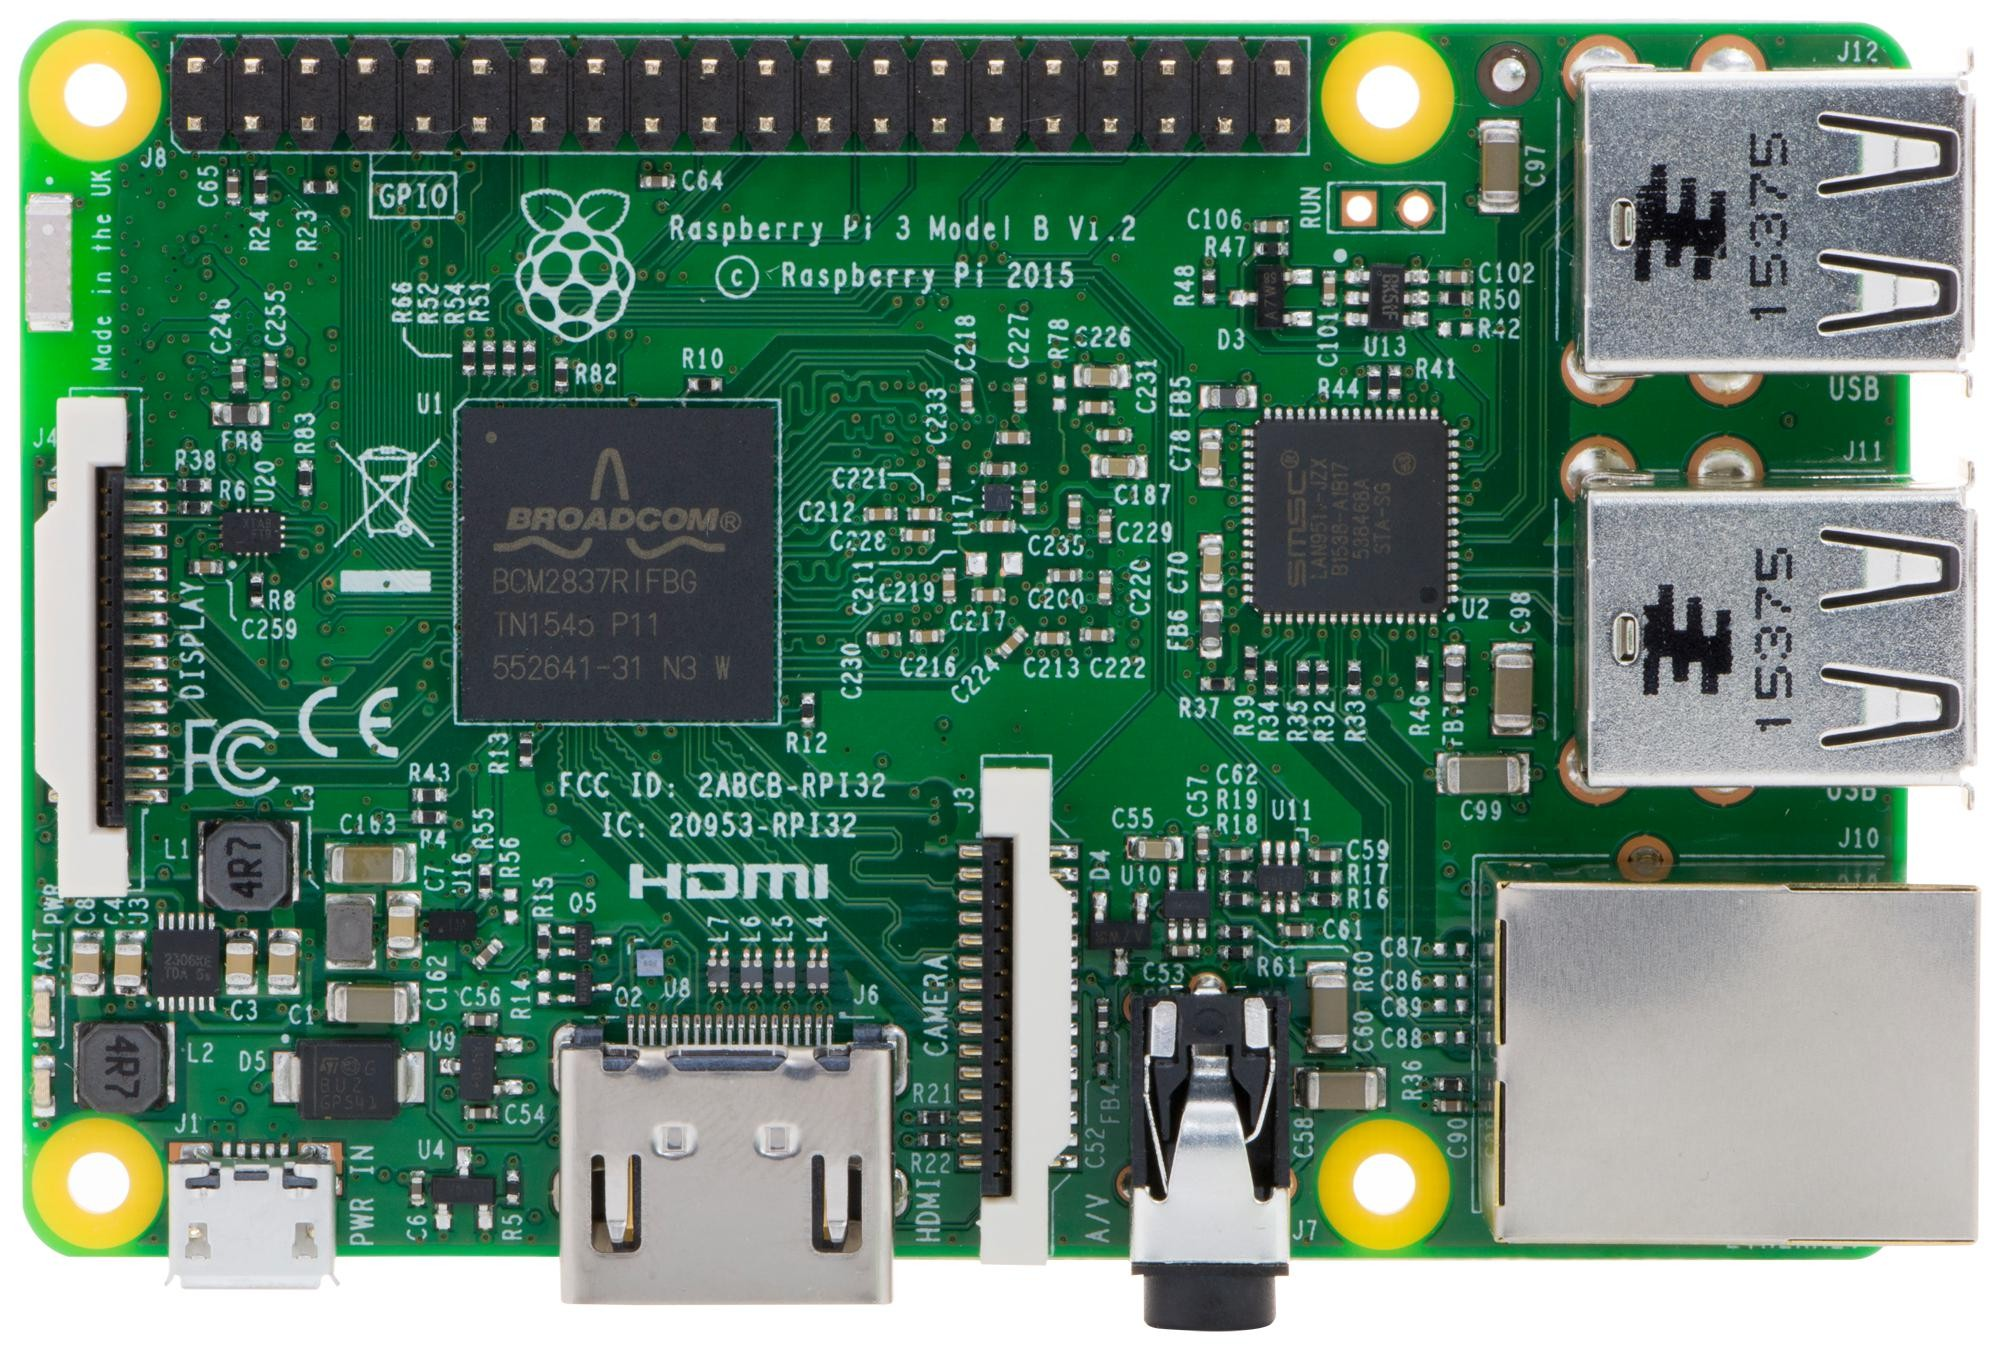capacitor C101: (1321, 271, 1337, 304)
capacitor C102: (1438, 270, 1474, 286)
capacitor C106: (1253, 220, 1291, 237)
capacitor C162: (327, 979, 423, 1025), (267, 930, 303, 994)
capacitor C163: (324, 845, 420, 883)
capacitor C187: (1090, 454, 1151, 481)
capacitor C200: (1047, 568, 1084, 585)
capacitor C212: (864, 506, 898, 521)
capacitor C213: (1035, 631, 1072, 646)
capacitor C216: (910, 630, 946, 643)
capacitor C217: (973, 588, 1008, 603)
capacitor C218: (961, 380, 974, 414)
capacitor C219: (940, 565, 959, 603)
capacitor C220: (1099, 570, 1113, 609)
capacitor C221: (910, 508, 941, 521)
capacitor C222: (1081, 628, 1114, 643)
capacitor C224: (995, 625, 1029, 664)
capacitor C226: (1072, 365, 1131, 390)
capacitor C227: (1012, 377, 1030, 413)
capacitor C228: (899, 527, 937, 545)
capacitor C229: (1099, 508, 1114, 545)
capacitor C230: (867, 631, 904, 648)
capacitor C233: (937, 455, 952, 493)
capacitor C235: (980, 518, 1017, 536)
capacitor C246: (227, 357, 250, 399)
capacitor C255: (264, 354, 279, 392)
capacitor C259: (187, 559, 224, 577)
capacitor C3: (226, 930, 261, 997)
capacitor C321: (1075, 402, 1117, 417)
capacitor C4: (114, 930, 148, 997)
capacitor C53: (1164, 943, 1202, 958)
capacitor C54: (461, 1104, 502, 1122)
capacitor C55: (1127, 838, 1187, 862)
capacitor C56: (462, 1012, 502, 1028)
capacitor C57: (1196, 826, 1211, 862)
capacitor C58: (1297, 1068, 1387, 1112)
capacitor C59: (1312, 848, 1343, 863)
capacitor C6: (410, 1171, 425, 1207)
capacitor C60: (1309, 961, 1349, 1055)
capacitor C61: (1282, 924, 1316, 939)
capacitor C62: (1223, 848, 1253, 863)
capacitor C64: (639, 173, 678, 191)
capacitor C65: (226, 170, 242, 206)
capacitor C7: (387, 892, 422, 961)
capacitor C70: (1197, 535, 1224, 594)
capacitor C78: (1199, 428, 1224, 488)
capacitor C8: (69, 930, 107, 997)
capacitor C90: (1434, 1098, 1471, 1116)
capacitor C97: (1480, 119, 1521, 214)
capacitor C98: (1489, 643, 1533, 738)
capacitor C99: (1438, 750, 1533, 796)
component text" "2306KE TDA 5: (161, 949, 214, 988)
component text" "BROADCOM BCM2837RIFBG TN1545 P11 552641-31 N3 W: (485, 493, 739, 686)
component text" "BU2 GP541: (316, 1073, 381, 1116), (235, 515, 276, 542)
component text" "SMSC LAN951-JZX B1538-A1B17 538468A STA-SG: (1279, 454, 1393, 594)
component text" 15375: (1747, 536, 1798, 741), (1742, 127, 1791, 324)
component text" 4R7: (99, 1034, 148, 1101), (223, 833, 267, 904)
component text" A7W58: (1261, 270, 1282, 325)
component text" BK5LF: (1380, 271, 1401, 324)
connector J1: (167, 1141, 343, 1290)
connector J10: (1471, 850, 1980, 1245)
connector J11: (1581, 484, 1976, 790)
connector J12: (1581, 69, 1974, 377)
connector J3: (953, 756, 1083, 1254)
connector J4: (21, 389, 169, 896)
connector J6: (557, 1022, 896, 1306)
connector J7: (1134, 993, 1288, 1332)
connector J8: (169, 32, 1310, 155)
connector RUN: (1328, 181, 1444, 234)
diode D3: (1224, 264, 1313, 331)
diode D4: (1087, 890, 1151, 976)
diode D5: (271, 1038, 426, 1118)
ferrite bead" FB4: (1095, 997, 1113, 1037)
ferrite bead" FB5: (1199, 386, 1256, 410)
ferrite bead" FB6: (1199, 600, 1224, 660)
ferrite bead" FB7: (1443, 646, 1468, 705)
ferrite bead" FB8: (211, 402, 270, 428)
ic U1: (455, 401, 780, 725)
ic U10: (1163, 866, 1209, 942)
ic U11: (1253, 839, 1307, 915)
ic U13: (1343, 264, 1429, 331)
ic U16: (425, 909, 477, 942)
ic U17: (983, 484, 1012, 512)
ic U2: (1255, 419, 1447, 613)
ic U20: (218, 508, 288, 557)
ic U3: (151, 928, 220, 997)
ic U4: (431, 1147, 495, 1231)
ic U8: (634, 949, 667, 978)
ic U9: (438, 1026, 523, 1100)
inductor L1: (196, 814, 300, 910)
inductor L2: (74, 1020, 176, 1110)
inductor L3: (324, 896, 378, 967)
inductor L4: (807, 958, 830, 993)
inductor L5: (773, 958, 797, 990)
inductor L6: (741, 957, 765, 991)
inductor L7: (708, 957, 730, 988)
led ACT: (29, 976, 56, 1040)
led PWR: (32, 1055, 56, 1116)
pads C211: (964, 551, 1024, 579)
pads C52: (1093, 1038, 1114, 1080)
pads C86: (1428, 972, 1473, 991)
pads C87: (1434, 942, 1471, 958)
pads C88: (1428, 1028, 1468, 1050)
pads C89: (1434, 997, 1474, 1016)
pads R14: (538, 969, 553, 1006)
pads R42: (1437, 322, 1476, 337)
pads R56: (500, 884, 521, 927)
pads R78: (1053, 377, 1066, 411)
resistor R10: (687, 375, 724, 393)
resistor R12: (801, 692, 816, 731)
resistor R13: (520, 731, 533, 771)
resistor R15: (538, 922, 553, 958)
resistor R16: (1309, 893, 1343, 909)
resistor R17: (1312, 871, 1346, 886)
resistor R18: (1223, 893, 1255, 909)
resistor R19: (1218, 871, 1255, 884)
resistor R21: (917, 1109, 950, 1126)
resistor R22: (920, 1135, 950, 1150)
resistor R23: (300, 179, 340, 197)
resistor R24: (253, 172, 270, 209)
resistor R32: (1316, 663, 1330, 696)
resistor R33: (1346, 658, 1364, 696)
resistor R34: (1262, 660, 1280, 693)
resistor R35: (1295, 661, 1310, 696)
resistor R36: (1432, 1076, 1471, 1094)
resistor R37: (1199, 675, 1236, 693)
resistor R38: (178, 478, 212, 493)
resistor R39: (1245, 645, 1259, 680)
resistor R4: (410, 811, 449, 827)
resistor R41: (1389, 363, 1404, 401)
resistor R43: (413, 790, 447, 802)
resistor R44: (1367, 365, 1383, 402)
resistor R46: (1416, 655, 1431, 695)
resistor R47: (1255, 243, 1291, 258)
resistor R48: (1202, 270, 1217, 307)
resistor R5: (506, 1172, 520, 1207)
resistor R50: (1438, 292, 1476, 307)
resistor R51: (520, 341, 539, 377)
resistor R52: (483, 342, 497, 377)
resistor R54: (502, 341, 517, 380)
resistor R55: (477, 862, 494, 901)
resistor R6: (178, 502, 212, 517)
resistor R60: (1220, 925, 1255, 942)
resistor R61: (1218, 946, 1253, 960)
resistor R66: (462, 341, 476, 378)
resistor R8: (248, 573, 264, 612)
resistor R82: (554, 357, 569, 392)
resistor R83: (297, 458, 315, 497)
text "Do not throw away_symbol: (334, 435, 441, 550)
text "FCC ID: 2ABCB-RPI32: (551, 765, 895, 805)
text "IC: 20953-RPI32: (599, 809, 861, 841)
text "Made in the UK: (86, 167, 117, 380)
text "PWR IN: (346, 1141, 380, 1255)
text "Raspberry Pi 2015: (776, 258, 1078, 294)
text "Raspberry Pi 3 Model B V1.2: (661, 208, 1137, 249)
text "Raspberry Pi_symbol: (512, 187, 639, 347)
text 227: (1005, 310, 1032, 371)
text A: (1081, 1189, 1114, 1249)
text A7W58: (1090, 925, 1146, 948)
text ACT: (29, 921, 57, 973)
text C: (712, 253, 762, 301)
text C1: (288, 1002, 318, 1029)
text C101: (1315, 312, 1343, 371)
text C102: (1477, 258, 1541, 286)
text C106: (1184, 203, 1244, 234)
text C162: (422, 954, 450, 1014)
text C163: (337, 811, 399, 839)
text C187: (1113, 481, 1173, 509)
text C200: (1027, 585, 1087, 613)
text C211: (851, 560, 877, 619)
text C212: (797, 497, 857, 526)
text C213: (1021, 654, 1081, 680)
text C216: (898, 654, 959, 680)
text C217: (949, 609, 1008, 633)
text C218: (952, 313, 979, 374)
text C219: (878, 579, 937, 606)
text C220: (1127, 557, 1154, 618)
text C221: (831, 463, 889, 493)
text C222: (1089, 654, 1149, 683)
text C224: (947, 652, 1002, 707)
text C226: (1072, 322, 1136, 350)
text C228: (828, 529, 890, 554)
text C229: (1114, 518, 1175, 545)
text C230: (837, 640, 864, 704)
text C231: (1133, 357, 1161, 417)
text C233: (922, 386, 950, 447)
text C235: (1029, 532, 1087, 560)
text C246: (205, 295, 236, 359)
text C255: (262, 286, 291, 350)
text C259: (242, 618, 300, 643)
text C3: (226, 997, 264, 1026)
text C4: (101, 896, 128, 928)
text C52: (1083, 1124, 1110, 1174)
text C53: (1140, 960, 1187, 985)
text C54: (505, 1101, 548, 1129)
text C55: (1111, 805, 1154, 832)
text C56: (458, 982, 505, 1011)
text C57: (1184, 774, 1209, 820)
text C58: (1291, 1113, 1318, 1163)
text C59: (1346, 838, 1390, 862)
text C6: (404, 1211, 431, 1246)
text C60: (1352, 1009, 1377, 1055)
text C61: (1321, 916, 1364, 943)
text C62: (1214, 761, 1262, 788)
text C64: (679, 169, 727, 193)
text C65: (193, 164, 221, 212)
text C7: (422, 863, 447, 893)
text C70: (1164, 548, 1191, 598)
text C78: (1167, 425, 1196, 476)
text C8: (71, 896, 96, 928)
text C86: (1380, 967, 1425, 993)
text C87: (1380, 936, 1425, 958)
text C88: (1380, 1023, 1425, 1053)
text C89: (1381, 996, 1425, 1022)
text C90: (1444, 1118, 1471, 1162)
text C97: (1523, 143, 1550, 190)
text C98: (1506, 588, 1535, 637)
text C99: (1459, 796, 1505, 823)
text CAMERA: (916, 951, 952, 1062)
text CE: (295, 680, 404, 759)
text D3: (1215, 324, 1247, 354)
text D4: (1086, 848, 1111, 883)
text D5: (236, 1049, 270, 1074)
text DISPLAY: (173, 582, 211, 704)
text FB4: (1096, 1080, 1123, 1129)
text FB5: (1164, 374, 1194, 420)
text FB6: (1163, 609, 1191, 655)
text FB7: (1438, 704, 1467, 747)
text FCC: (181, 716, 285, 800)
text FR8: (215, 429, 267, 458)
text GPIO: (367, 170, 459, 223)
text HDMI: (627, 859, 834, 904), (910, 1177, 946, 1246)
text J1: (173, 1110, 203, 1136)
text J10: (1834, 823, 1883, 853)
text J11: (1840, 435, 1886, 466)
text J12: (1834, 35, 1883, 65)
text J3: (950, 783, 977, 817)
text J4: (32, 422, 59, 449)
text J6: (852, 981, 883, 1012)
text J7: (1292, 1217, 1319, 1246)
text J8: (140, 146, 170, 172)
text L1: (161, 838, 193, 862)
text L2: (187, 1038, 215, 1067)
text L3: (292, 783, 318, 814)
text L4: (803, 912, 830, 946)
text L5: (770, 915, 800, 946)
text L6: (739, 916, 764, 946)
text L7: (705, 915, 733, 946)
text PWR: (39, 881, 65, 930)
text Q2: (611, 984, 646, 1012)
text Q5: (568, 890, 599, 916)
text R10: (679, 347, 724, 371)
text R12: (785, 731, 830, 753)
text R13: (483, 729, 514, 777)
text R14: (508, 978, 535, 1023)
text R15: (530, 874, 556, 921)
text R16: (1346, 887, 1392, 912)
text R17: (1346, 860, 1395, 887)
text R18: (1212, 811, 1262, 836)
text R19: (1215, 786, 1261, 814)
text R21: (910, 1080, 953, 1107)
text R22: (908, 1150, 953, 1177)
text R224: (248, 209, 273, 258)
text R23: (292, 209, 325, 258)
text R32: (1313, 696, 1337, 746)
text R33: (1343, 701, 1369, 746)
text R34: (1258, 698, 1282, 744)
text R35: (1286, 699, 1312, 744)
text R36: (1399, 1056, 1425, 1104)
text R37: (1178, 695, 1221, 723)
text R38: (172, 447, 217, 472)
text R39: (1230, 692, 1258, 738)
text R4: (413, 829, 450, 851)
text R41: (1413, 356, 1459, 383)
text R42: (1477, 316, 1524, 342)
text R43: (407, 761, 452, 785)
text R44: (1316, 375, 1361, 401)
text R46: (1407, 693, 1434, 740)
text R47: (1203, 235, 1248, 261)
text R48: (1172, 262, 1197, 309)
text R5: (500, 1211, 526, 1245)
text R50: (1477, 286, 1523, 313)
text R51: (468, 282, 492, 324)
text R52: (416, 282, 440, 328)
text R54: (440, 282, 468, 328)
text R55: (471, 805, 495, 851)
text R56: (498, 835, 523, 881)
text R6: (221, 479, 247, 503)
text R60: (1352, 951, 1377, 994)
text R61: (1253, 954, 1300, 979)
text R66: (390, 279, 414, 325)
text R78: (1044, 315, 1072, 362)
text R8: (270, 586, 298, 615)
text R82: (572, 362, 620, 387)
text R83: (292, 410, 318, 458)
text RUN: (1297, 185, 1324, 231)
text U1: (416, 390, 444, 417)
text U10: (1117, 862, 1164, 889)
text U11: (1270, 796, 1313, 826)
text U13: (1361, 333, 1407, 360)
text U16: (447, 850, 474, 896)
text U17: (947, 494, 977, 538)
text U2: (1461, 594, 1491, 622)
text U20: (255, 460, 279, 505)
text U3: (127, 896, 152, 928)
text U4: (416, 1136, 447, 1163)
text U8: (666, 976, 696, 1002)
text U9: (428, 1029, 459, 1055)
text USB: (1824, 372, 1881, 405), (1825, 785, 1883, 805)
transistor Q2: (557, 967, 611, 1006)
transistor Q5: (559, 921, 611, 964)
unknown: (26, 194, 75, 331), (468, 937, 505, 973), (1096, 428, 1133, 444), (1021, 481, 1038, 515), (994, 429, 1032, 444), (982, 463, 1017, 478), (1066, 494, 1081, 529)
